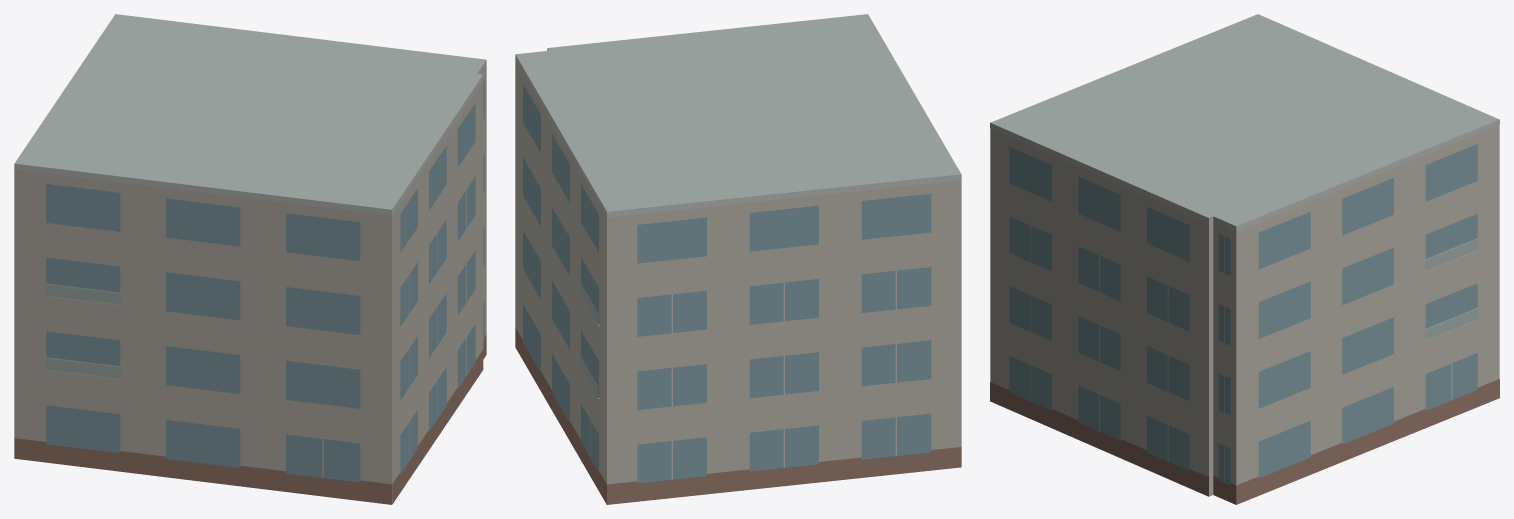
Rendered from survey-upis-32956380.glb.
The picture shows the model from 3 angles, left to right: view 1: azimuth 30°, elevation 25°; view 2: azimuth 150°, elevation 25°; view 3: azimuth 270°, elevation 25°; orthographic projection. The views are drawn at different scales.
Parts seen in each view (by area): view 1: survey-upis-32956380.tmp; view 2: survey-upis-32956380.tmp; view 3: survey-upis-32956380.tmp.
Part boxes in pixels (bbox=[...]): survey-upis-32956380.tmp: bbox=[14, 14, 486, 504]; survey-upis-32956380.tmp: bbox=[515, 14, 961, 504]; survey-upis-32956380.tmp: bbox=[990, 14, 1499, 504].
Bounding box in the file's own units: 19.77 × 12.1 × 20.06.
